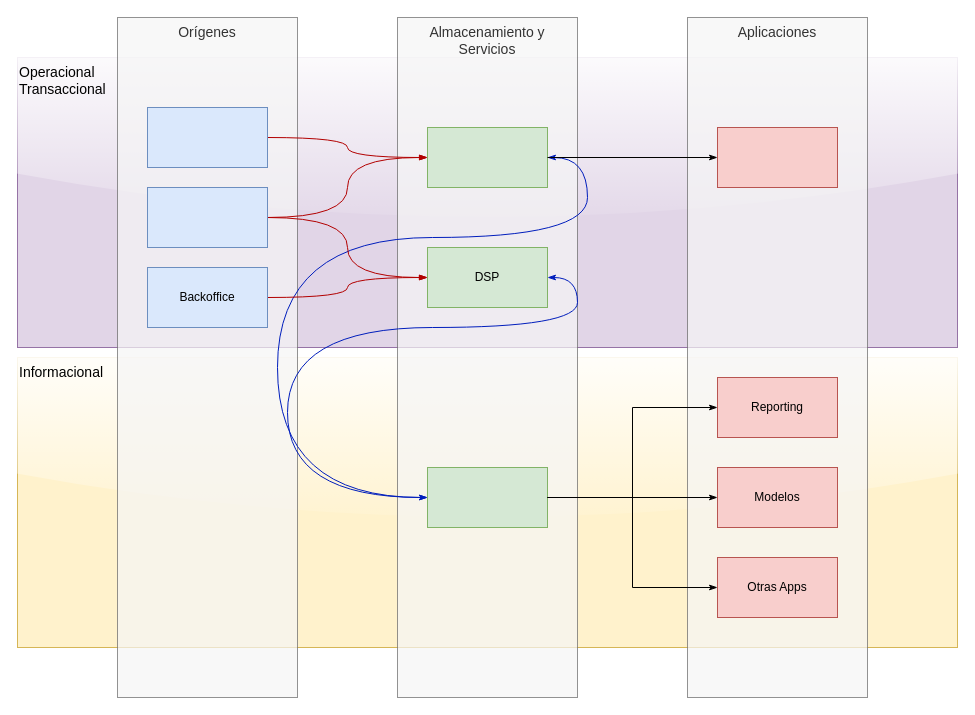
The diagram is 975 pixels wide and 715 high, and some of its shapes have lost their labels. Here are the shapes that lost their labels. From the top down, the box of each, then its label:
(146, 106, 268, 168): Aplicaciones corporativas
(426, 126, 548, 188): Ecosistema Interno
(716, 126, 838, 188): APPs y WEB
(146, 186, 268, 248): OPTA
(426, 466, 548, 528): Datalake DWH
